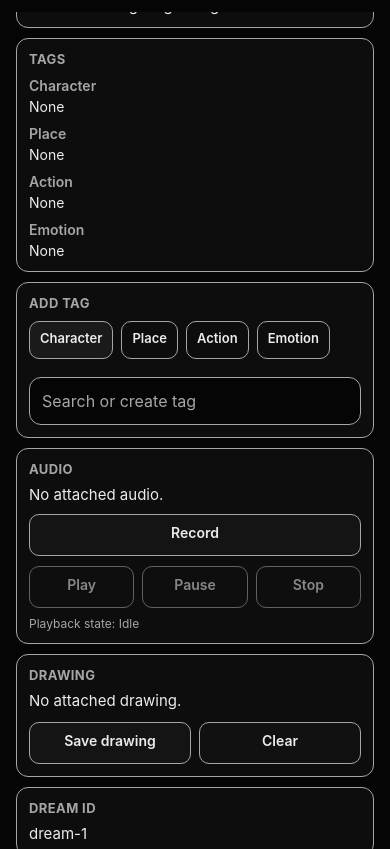
Test: DreamDetailScreenView › saves drawing PNG locally and creates a dream asset record
(page scrolled)
Click the button with test id "dream-detail-drawing-save-button". click: click(110, 743)
box: 29,722 -> 191,764
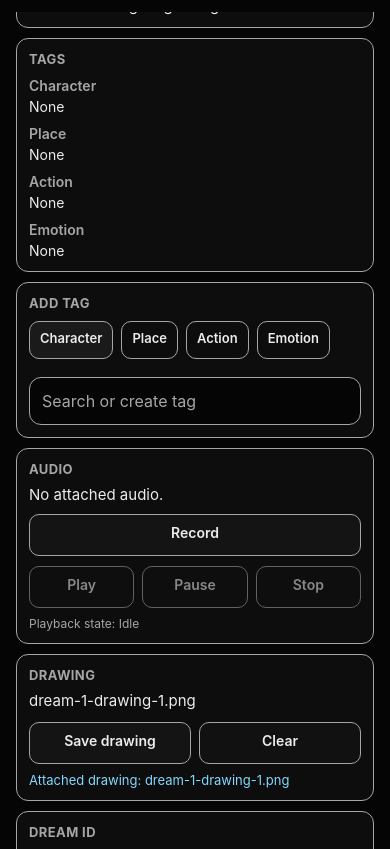
Expected: the text with test id "dream-detail-drawing-item" reads "dream-1-drawing-1.png", 29,691 -> 196,710
